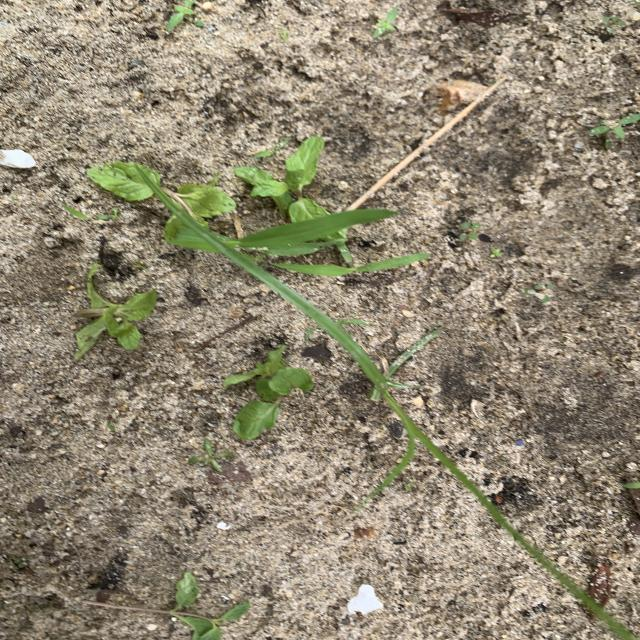crop: (87, 161, 236, 223), (223, 345, 311, 439), (235, 138, 326, 222), (75, 264, 155, 359), (160, 572, 250, 639)
weed: (140, 167, 637, 640), (238, 208, 398, 251), (277, 252, 428, 275), (188, 438, 234, 473), (589, 116, 638, 148), (167, 1, 203, 29), (372, 8, 399, 37), (526, 281, 553, 304), (603, 15, 627, 36), (461, 222, 480, 241), (489, 247, 503, 258)
